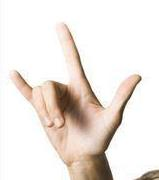back: (4, 20, 147, 158)
